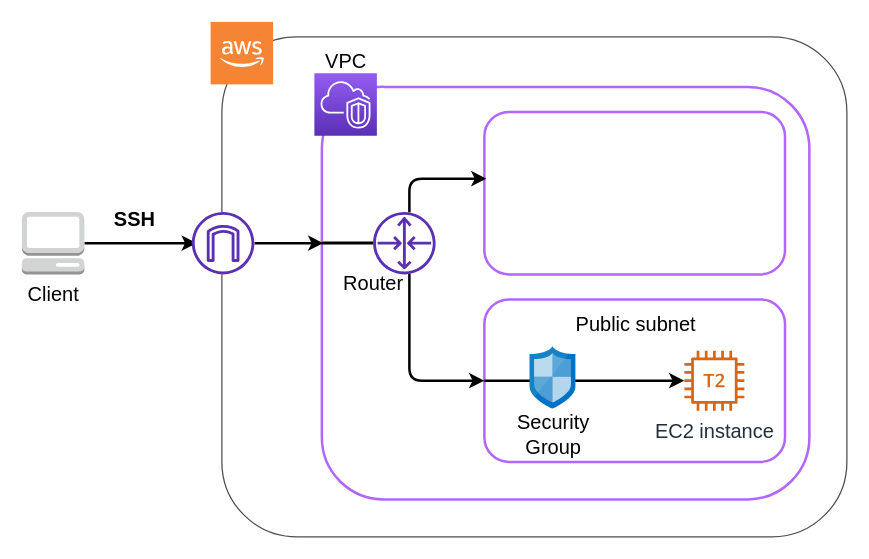
Some shapes in this 869 by 559 pixel diagram are drawn without their labels. The shapes that lost their labels are listed below. From the top down, each one's centre as x and y in pixels, then its label:
At [634,192]: "Private subnet".
At [222,242]: "Internet Gateway".
